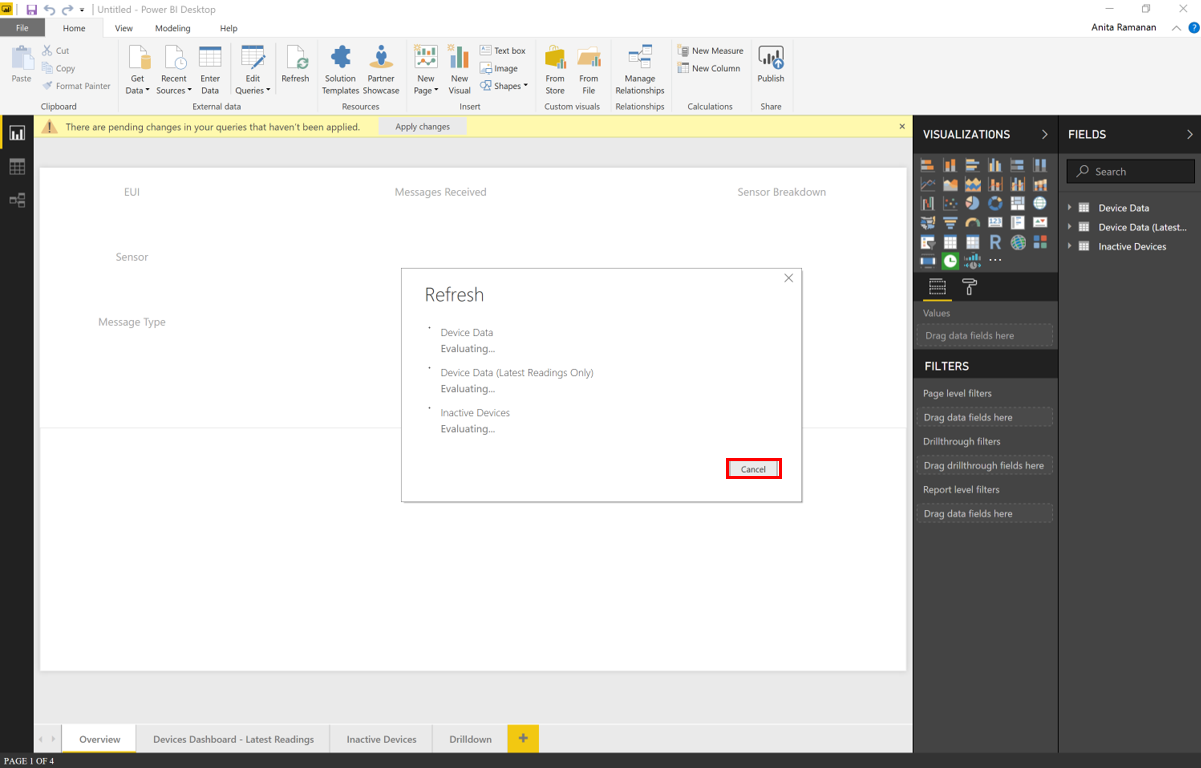

The dashboard page shown, as its layout file describes it:
{"tool":"powerbi","page":{"name":"Overview","canvas":[1280,720],"ordinal":0},"visuals":[{"type":"pieChart","fields":{"Category":["Loriot.Sensor Name"],"Y":["CountNonNull(Loriot.EUI)"]},"box":[912,0,368,368],"z":2},{"type":"slicer","fields":{"Values":["Loriot.EUI"]},"box":[0,0,272,80],"z":4},{"type":"slicer","fields":{"Values":["Loriot.Sensor Name"]},"box":[0,96,272,80],"z":4},{"type":"ChicletSlicer1448559807354","fields":{"Category":["Loriot.Message Type"]},"box":[0,192,272,80],"z":5},{"type":"card","fields":{"Values":["Loriot.Messages Received"]},"box":[0,288,272,96],"z":5},{"type":"ZoomChartsTimeChartFree33C9F325D337408C98D4E1D4E1EAD705","fields":{"Category":["Loriot.Timestamp (Gateway)"],"Values":["CountNonNull(Loriot.EUI)"]},"box":[0,384,1280,336],"z":5},{"type":"map","fields":{"Y":["Loriot.Device Latitude"],"X":["Loriot.Device Longitude"],"Size":["Loriot.Messages Received"]},"box":[272,0,640,368],"z":6}]}

Visuals, with their boxes on the page's 1280x720 design canvas (x1, y1, x2, y2). These are canvas units, not pixel positions in the 1201x768 screenshot, which may show the page scaled, cropped or inside an application window:
pieChart - Loriot.Sensor Name x CountNonNull(Loriot.EUI): bbox=(912, 0, 1280, 368)
slicer - Loriot.EUI: bbox=(0, 0, 272, 80)
slicer - Loriot.Sensor Name: bbox=(0, 96, 272, 176)
ChicletSlicer1448559807354 - Loriot.Message Type: bbox=(0, 192, 272, 272)
card - Loriot.Messages Received: bbox=(0, 288, 272, 384)
ZoomChartsTimeChartFree33C9F325D337408C98D4E1D4E1EAD705 - Loriot.Timestamp (Gateway) x CountNonNull(Loriot.EUI): bbox=(0, 384, 1280, 720)
map - Loriot.Device Latitude x Loriot.Device Longitude: bbox=(272, 0, 912, 368)
